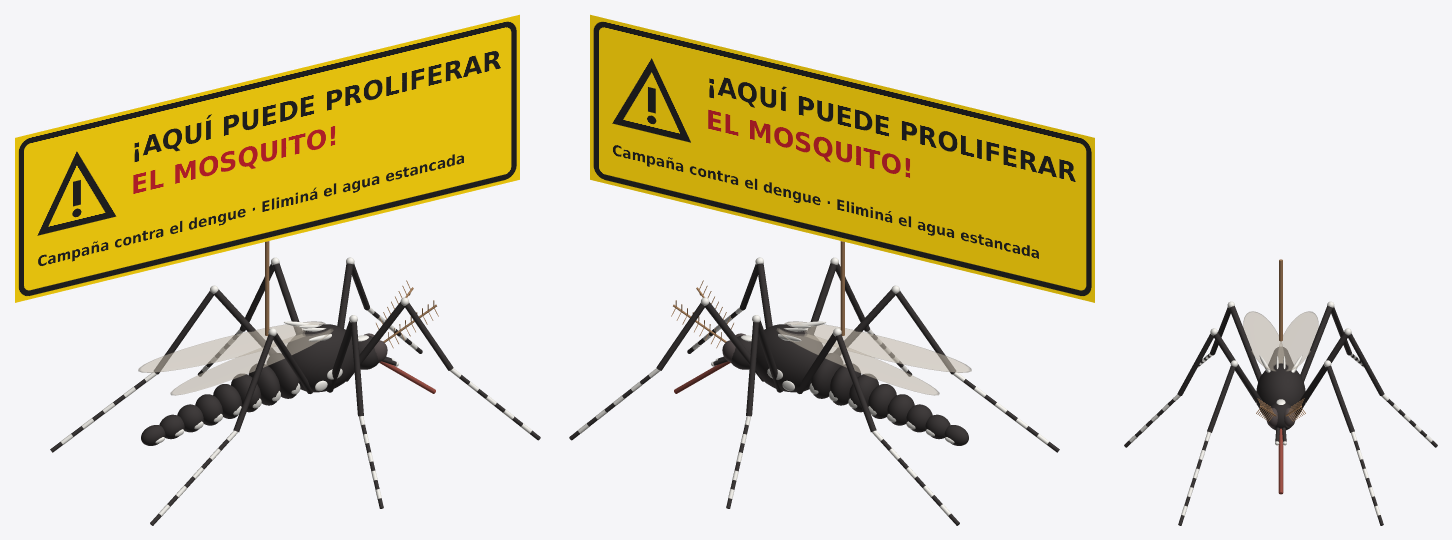
The model's file is mosquito.glb.
3 renders of one model, left to right at view 1: azimuth 30°, elevation 25°; view 2: azimuth 150°, elevation 25°; view 3: azimuth 270°, elevation 25°, orthographic. The views are drawn at different scales.
Visible parts, largest first — view 1: cartel, negro, ala, blanco, antena; view 2: cartel, negro, ala, blanco, antena; view 3: negro, ala, blanco, antena.
Boxes of the visible parts, left/top/right/bottom form: cartel: left=15, top=14, right=519, bottom=302; negro: left=50, top=263, right=540, bottom=525; ala: left=138, top=321, right=333, bottom=395; blanco: left=60, top=257, right=531, bottom=516; antena: left=265, top=241, right=438, bottom=348; cartel: left=590, top=14, right=1094, bottom=302; negro: left=569, top=263, right=1059, bottom=525; ala: left=776, top=321, right=971, bottom=395; blanco: left=578, top=257, right=1049, bottom=516; antena: left=671, top=241, right=844, bottom=348; negro: left=1124, top=306, right=1437, bottom=525; ala: left=1243, top=311, right=1318, bottom=371; blanco: left=1129, top=301, right=1432, bottom=515; antena: left=1256, top=259, right=1305, bottom=421.
Bounding box in the file's own units: 0.48 × 0.339 × 0.3027.
Materials: 7 (1 with a texture image).
